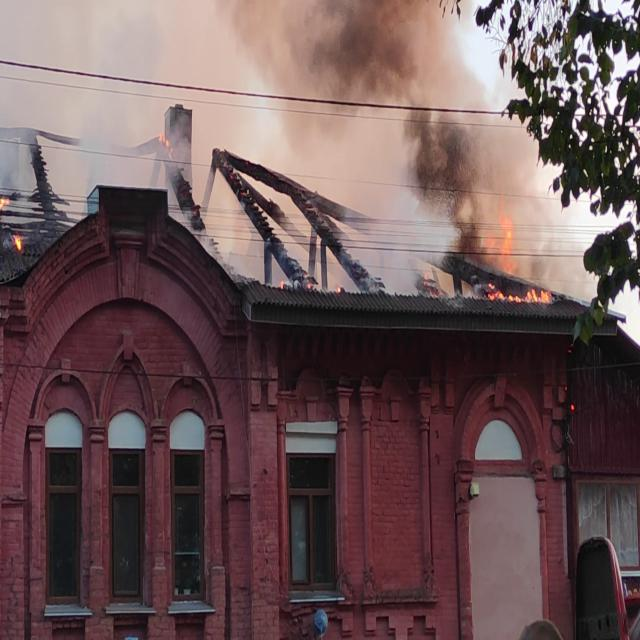fire: (478, 198, 556, 307)
smoke: (318, 0, 472, 203), (74, 12, 151, 134), (371, 234, 418, 296)
